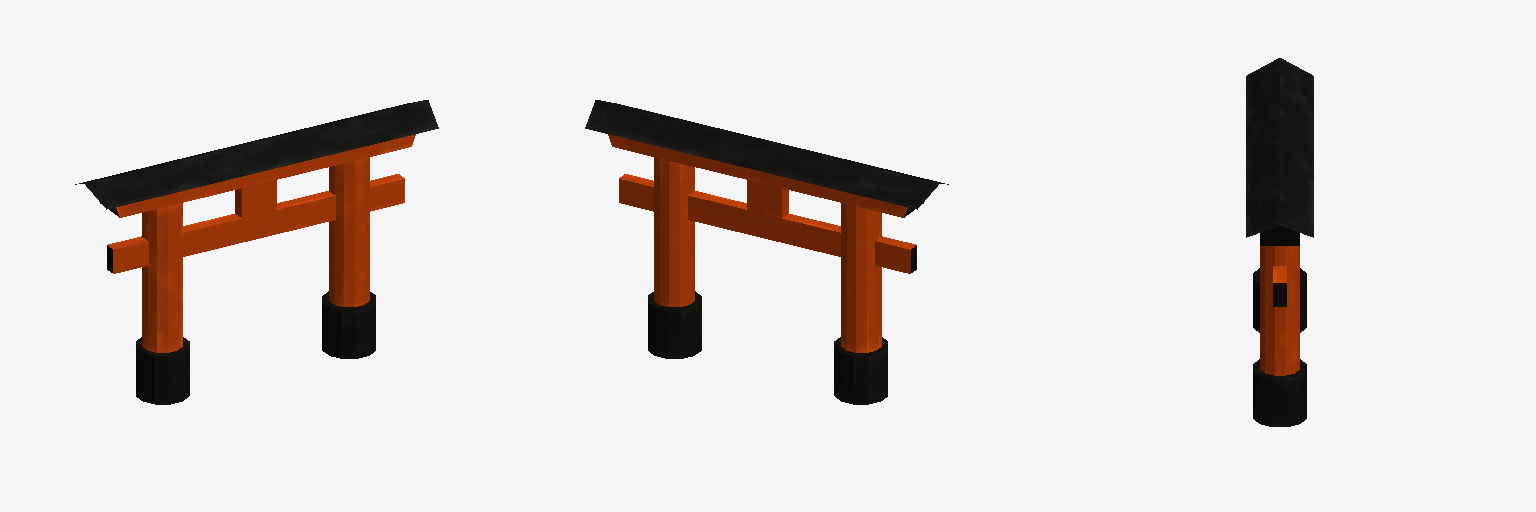
3 renders of one model, left to right at view 1: azimuth 30°, elevation 25°; view 2: azimuth 150°, elevation 25°; view 3: azimuth 270°, elevation 25°, orthographic.
Visible parts, largest first — view 1: roof, middle, left pillar, right pillar, roof_plank, left pillar_base, right pillar_base, middle_pillar; view 2: roof, middle, left pillar, right pillar, roof_plank, left pillar_base, right pillar_base, middle_pillar; view 3: roof, right pillar, right pillar_base, left pillar_base, roof_plank, middle.
Boxes of the visible parts, <box> form: roof: <box>75,100,438,209</box>; middle: <box>107,174,404,273</box>; left pillar: <box>142,203,182,352</box>; right pillar: <box>329,157,369,306</box>; roof_plank: <box>100,134,415,217</box>; left pillar_base: <box>136,337,189,404</box>; right pillar_base: <box>322,291,375,358</box>; middle_pillar: <box>235,180,276,217</box>; roof: <box>585,100,948,209</box>; middle: <box>619,174,916,273</box>; left pillar: <box>841,203,881,352</box>; right pillar: <box>654,157,694,306</box>; roof_plank: <box>608,134,923,217</box>; left pillar_base: <box>834,337,887,404</box>; right pillar_base: <box>648,291,701,358</box>; middle_pillar: <box>747,180,788,217</box>; roof: <box>1246,58,1313,237</box>; right pillar: <box>1260,246,1299,375</box>; right pillar_base: <box>1253,359,1306,426</box>; left pillar_base: <box>1253,268,1306,332</box>; roof_plank: <box>1260,226,1299,245</box>; middle: <box>1273,266,1286,306</box>.
Size of the model in its own units: 7.38 by 4.69 by 1.25.
1 materials, 1 textured.